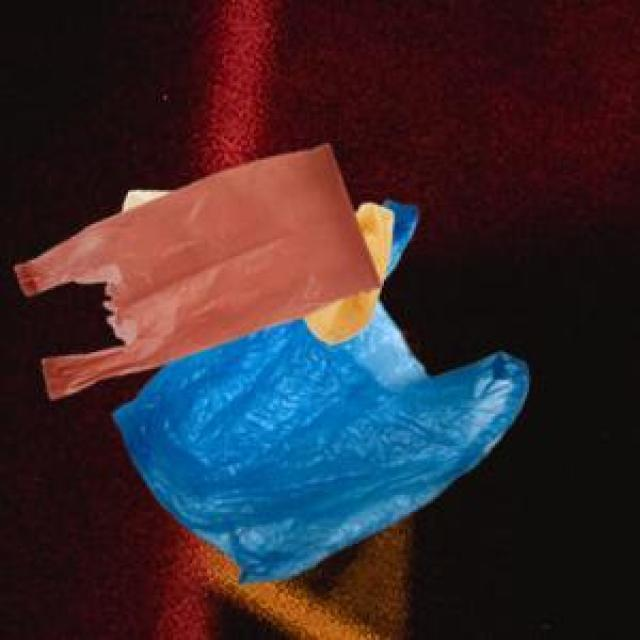waste: (15, 145, 529, 582)
